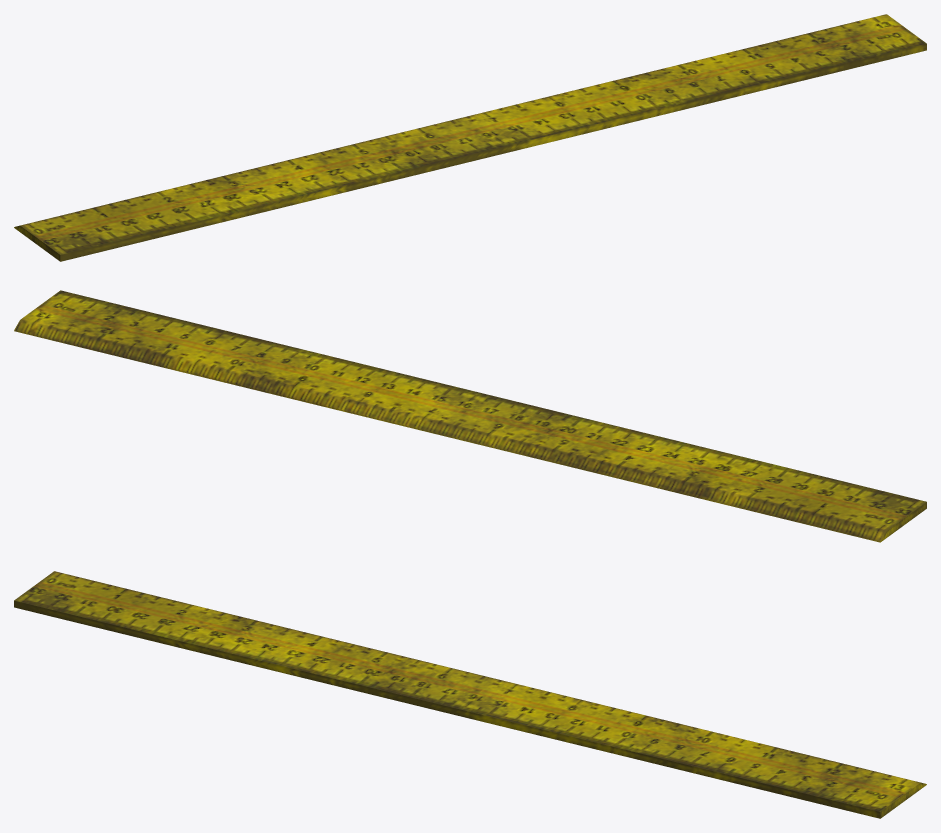
The model's file is ruler.fbx.
The picture shows the model from 3 angles, top to bottom: view 1: azimuth 30°, elevation 25°; view 2: azimuth 150°, elevation 25°; view 3: azimuth 330°, elevation 25°; orthographic projection.
Parts seen in each view (by area): view 1: Ruler; view 2: Ruler; view 3: Ruler.
Boxes of the visible parts, bbox=[...] form: Ruler: bbox=[14, 14, 926, 261]; Ruler: bbox=[14, 290, 926, 542]; Ruler: bbox=[14, 571, 926, 818].
Bounding box in the file's own units: 32.99 × 0.2502 × 3.07.
